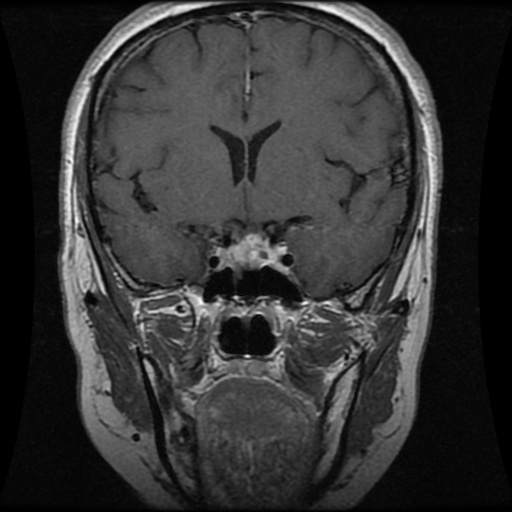pituitary: (218, 233, 286, 269)
